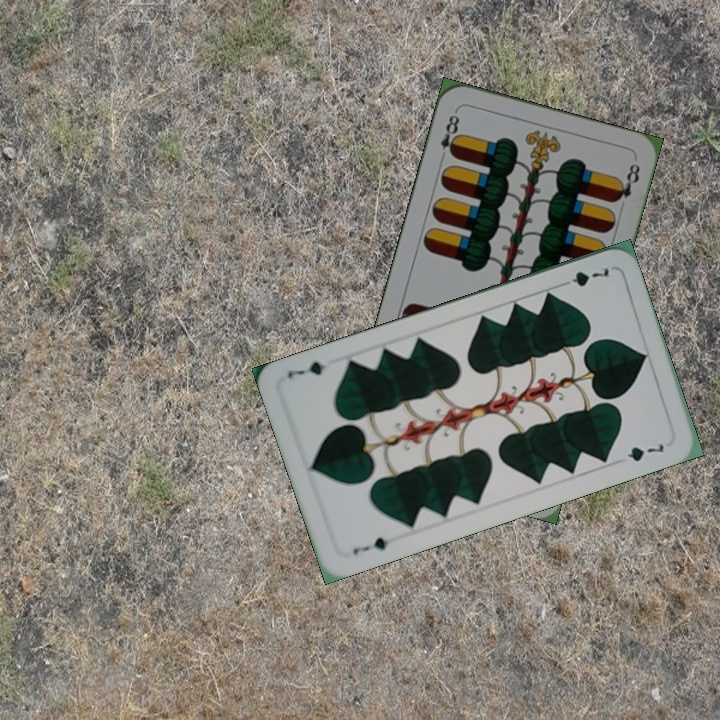E8: (436, 107, 463, 164)
G7: (556, 263, 612, 290), (349, 533, 392, 557)
